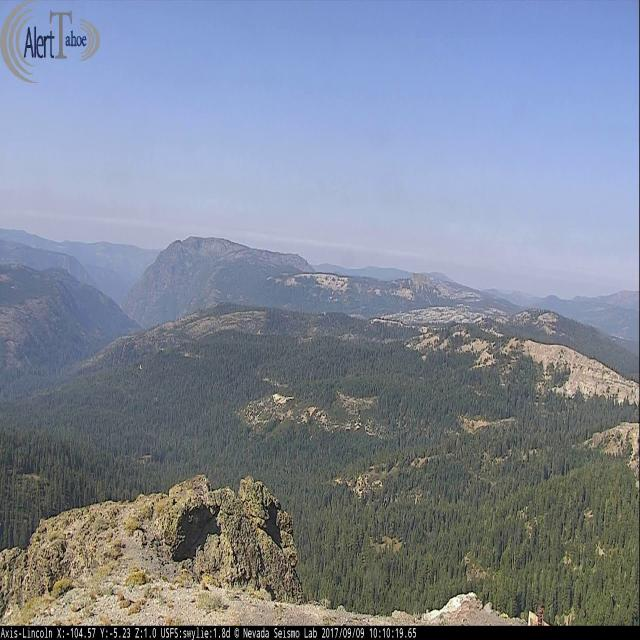smoke: (351, 284, 372, 318)
